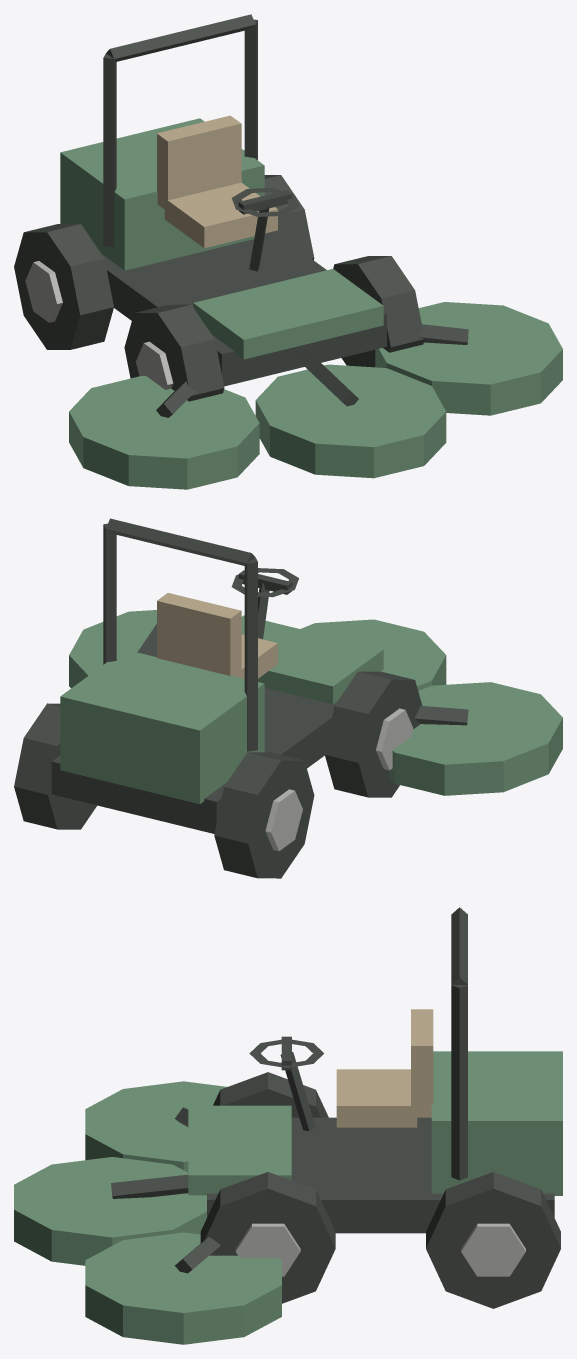
File: rough_mower_02.glb
The picture shows the model from 3 angles, top to bottom: view 1: azimuth 30°, elevation 25°; view 2: azimuth 150°, elevation 25°; view 3: azimuth 270°, elevation 25°; orthographic projection. The views are drawn at different scales.
Visible parts, largest first — view 1: Rough_mower_02; view 2: Rough_mower_02; view 3: Rough_mower_02.
Boxes of the visible parts, bbox=[...] form: Rough_mower_02: bbox=[14, 14, 562, 489]; Rough_mower_02: bbox=[14, 518, 562, 878]; Rough_mower_02: bbox=[14, 907, 562, 1344].
Bounding box in the file's own units: 3.02 × 1.87 × 3.02.
